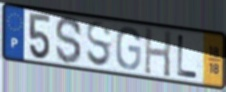5: (27, 11, 52, 61)
G: (114, 26, 142, 72)
H: (143, 26, 173, 80)
L: (176, 33, 199, 81)
S: (54, 14, 84, 66), (85, 20, 113, 70)
